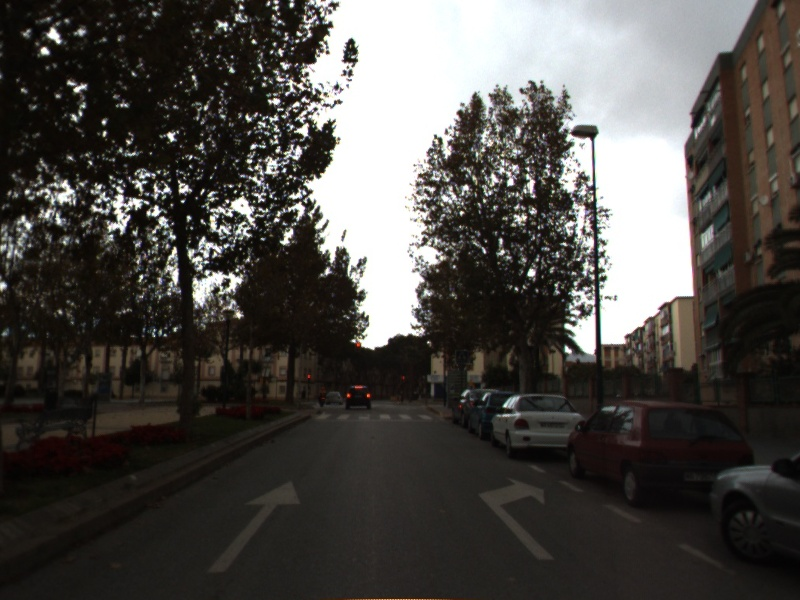RIGHT: (474, 473, 560, 564)
STRAIGHT: (206, 476, 305, 576)
